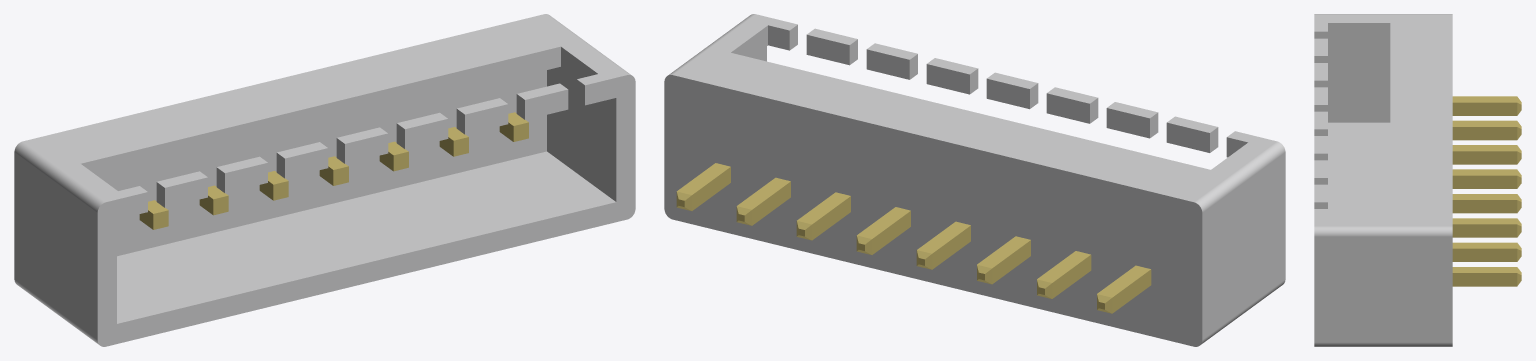
The model's file is jst_xh_8pin.glb.
The picture shows the model from 3 angles, left to right: view 1: azimuth 30°, elevation 25°; view 2: azimuth 150°, elevation 25°; view 3: azimuth 270°, elevation 25°; orthographic projection. The views are drawn at different scales.
Visible parts, largest first — view 1: world; view 2: world; view 3: world.
Boxes of the visible parts, x1,y1,x2,y2 form: world: [14, 14, 635, 346]; world: [664, 14, 1285, 346]; world: [1314, 14, 1521, 346].
Size of the model in its own units: 22.4 by 5.75 by 9.
